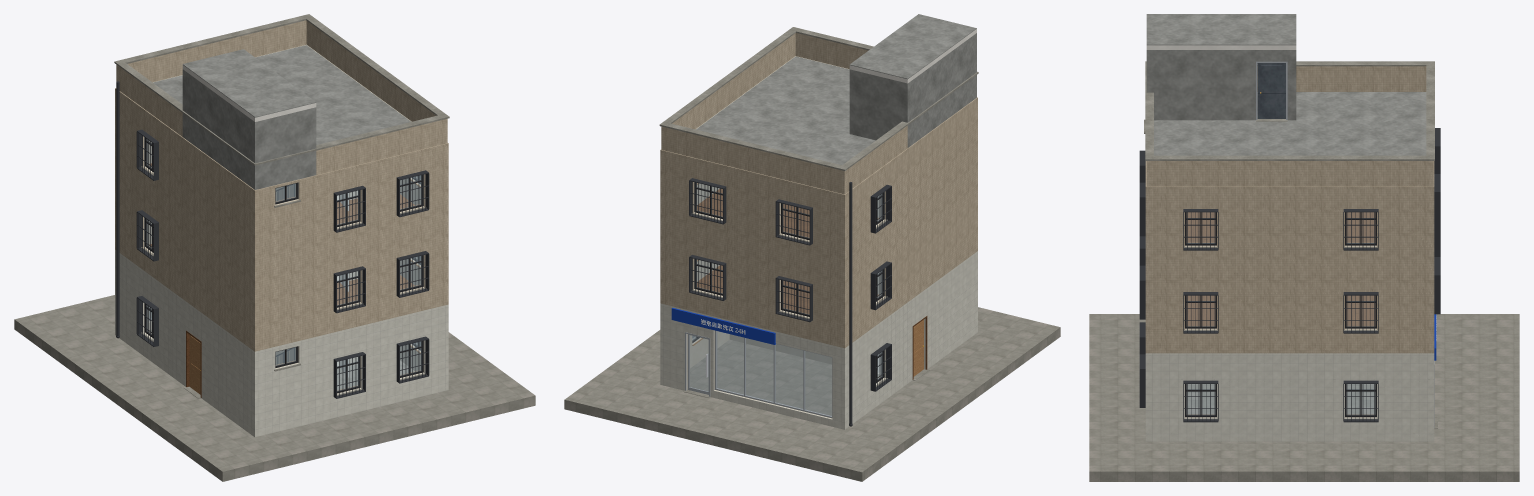
The model's file is b_laundromat_flats.gltf.
The picture shows the model from 3 angles, left to right: view 1: azimuth 30°, elevation 25°; view 2: azimuth 150°, elevation 25°; view 3: azimuth 270°, elevation 25°; orthographic projection. The views are drawn at different scales.
Parts seen in each view (by area): view 1: S_laundromat_flats, D_laundromat_flats_F1_E1_Door0; view 2: S_laundromat_flats, D_laundromat_flats_F1_S1_Door0, D_laundromat_flats_F1_E1_Door0; view 3: S_laundromat_flats, D_laundromat_flats_PH_W0_Door0.
Boxes of the visible parts, left/top/right/bottom form: S_laundromat_flats: left=14, top=14, right=535, bottom=481; D_laundromat_flats_F1_E1_Door0: left=189, top=335, right=200, bottom=394; S_laundromat_flats: left=564, top=14, right=1060, bottom=481; D_laundromat_flats_F1_S1_Door0: left=687, top=334, right=708, bottom=394; D_laundromat_flats_F1_E1_Door0: left=913, top=319, right=924, bottom=376; S_laundromat_flats: left=1089, top=14, right=1519, bottom=481; D_laundromat_flats_PH_W0_Door0: left=1257, top=63, right=1285, bottom=118.
Size of the model in its own units: 13 by 13.1 by 15.
20 materials, 11 textured.
